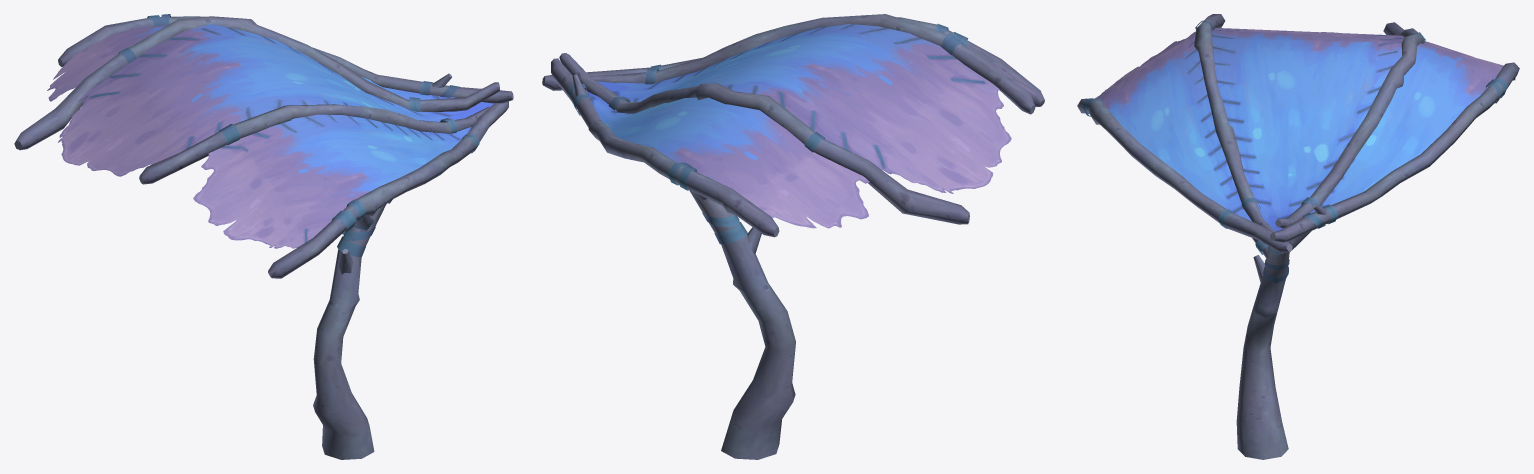
Rendered from Homeworld_Exterior_Fd_Decoration_Prop_RycPengzi_03_Lod0.fbx.
The picture shows the model from 3 angles, left to right: view 1: azimuth 30°, elevation 25°; view 2: azimuth 150°, elevation 25°; view 3: azimuth 270°, elevation 25°; orthographic projection. The views are drawn at different scales.
Parts seen in each view (by area): view 1: Area_Fd_Prop_RYC_Rypengzi_02_Lod0; view 2: Area_Fd_Prop_RYC_Rypengzi_02_Lod0; view 3: Area_Fd_Prop_RYC_Rypengzi_02_Lod0.
Part boxes in pixels (x1,y1,x2,y2): Area_Fd_Prop_RYC_Rypengzi_02_Lod0: (14,14,513,459); Area_Fd_Prop_RYC_Rypengzi_02_Lod0: (542,14,1044,459); Area_Fd_Prop_RYC_Rypengzi_02_Lod0: (1077,14,1519,459).
Size of the model in its own units: 3.73 by 3.2 by 3.46.
